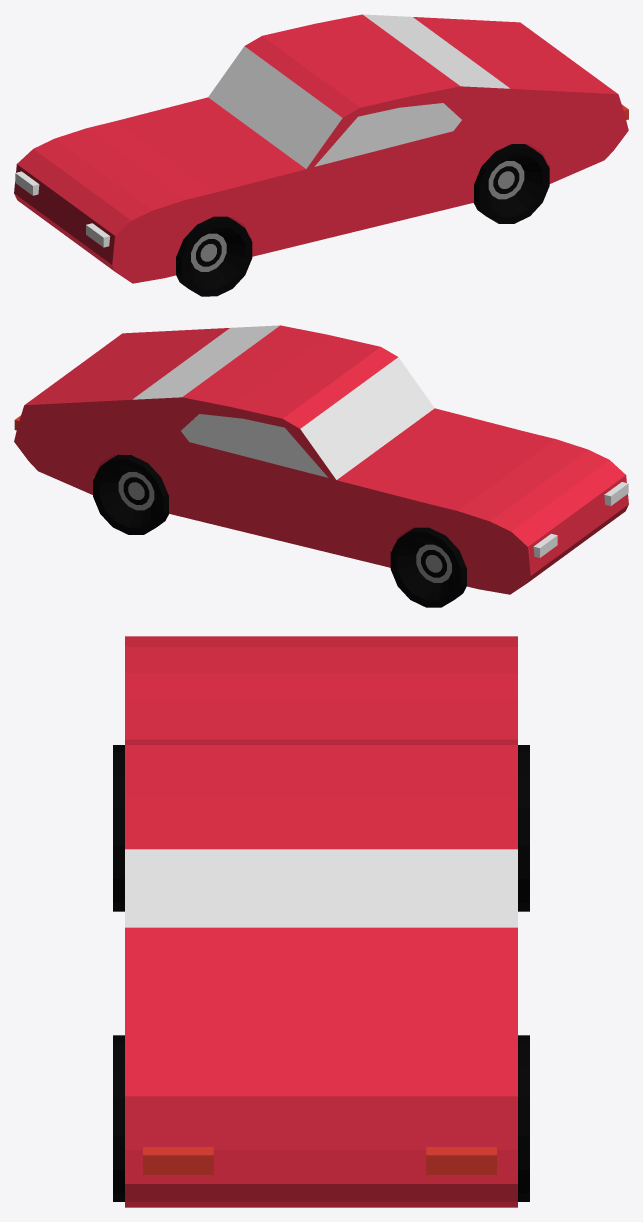
Rendered from cartry.fbx.
3 renders of one model, top to bottom at view 1: azimuth 30°, elevation 25°; view 2: azimuth 150°, elevation 25°; view 3: azimuth 270°, elevation 25°, orthographic. The views are drawn at different scales.
Parts seen in each view (by area): view 1: Araba, solön, sol arka; view 2: Araba, sağ ön, sağ arka; view 3: Araba, sağ arka, solön, sol arka, sağ ön.
Boxes of the visible parts, bbox=[...] form: Araba: bbox=[14, 14, 628, 283]; solön: bbox=[176, 216, 252, 296]; sol arka: bbox=[474, 144, 549, 223]; Araba: bbox=[14, 325, 628, 594]; sağ ön: bbox=[390, 527, 466, 607]; sağ arka: bbox=[93, 454, 168, 534]; Araba: bbox=[125, 636, 517, 1207]; sağ arka: bbox=[518, 1035, 529, 1201]; solön: bbox=[113, 745, 124, 911]; sol arka: bbox=[113, 1035, 124, 1201]; sağ ön: bbox=[518, 745, 529, 911].
Bounding box in the file's own units: 343 × 94.17 × 118.
